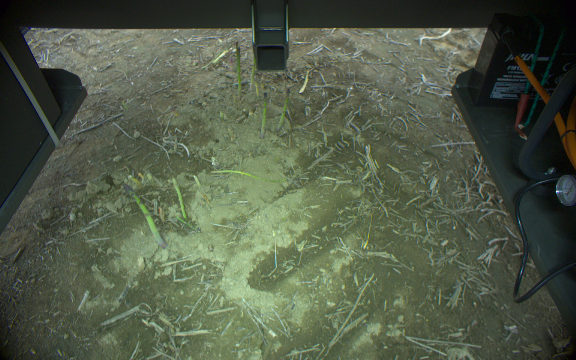aspa: (122, 185, 164, 249), (206, 167, 286, 186), (169, 176, 188, 221), (272, 87, 290, 132), (259, 90, 268, 139), (233, 46, 241, 100), (245, 54, 256, 93), (297, 68, 310, 94), (190, 174, 201, 192)
